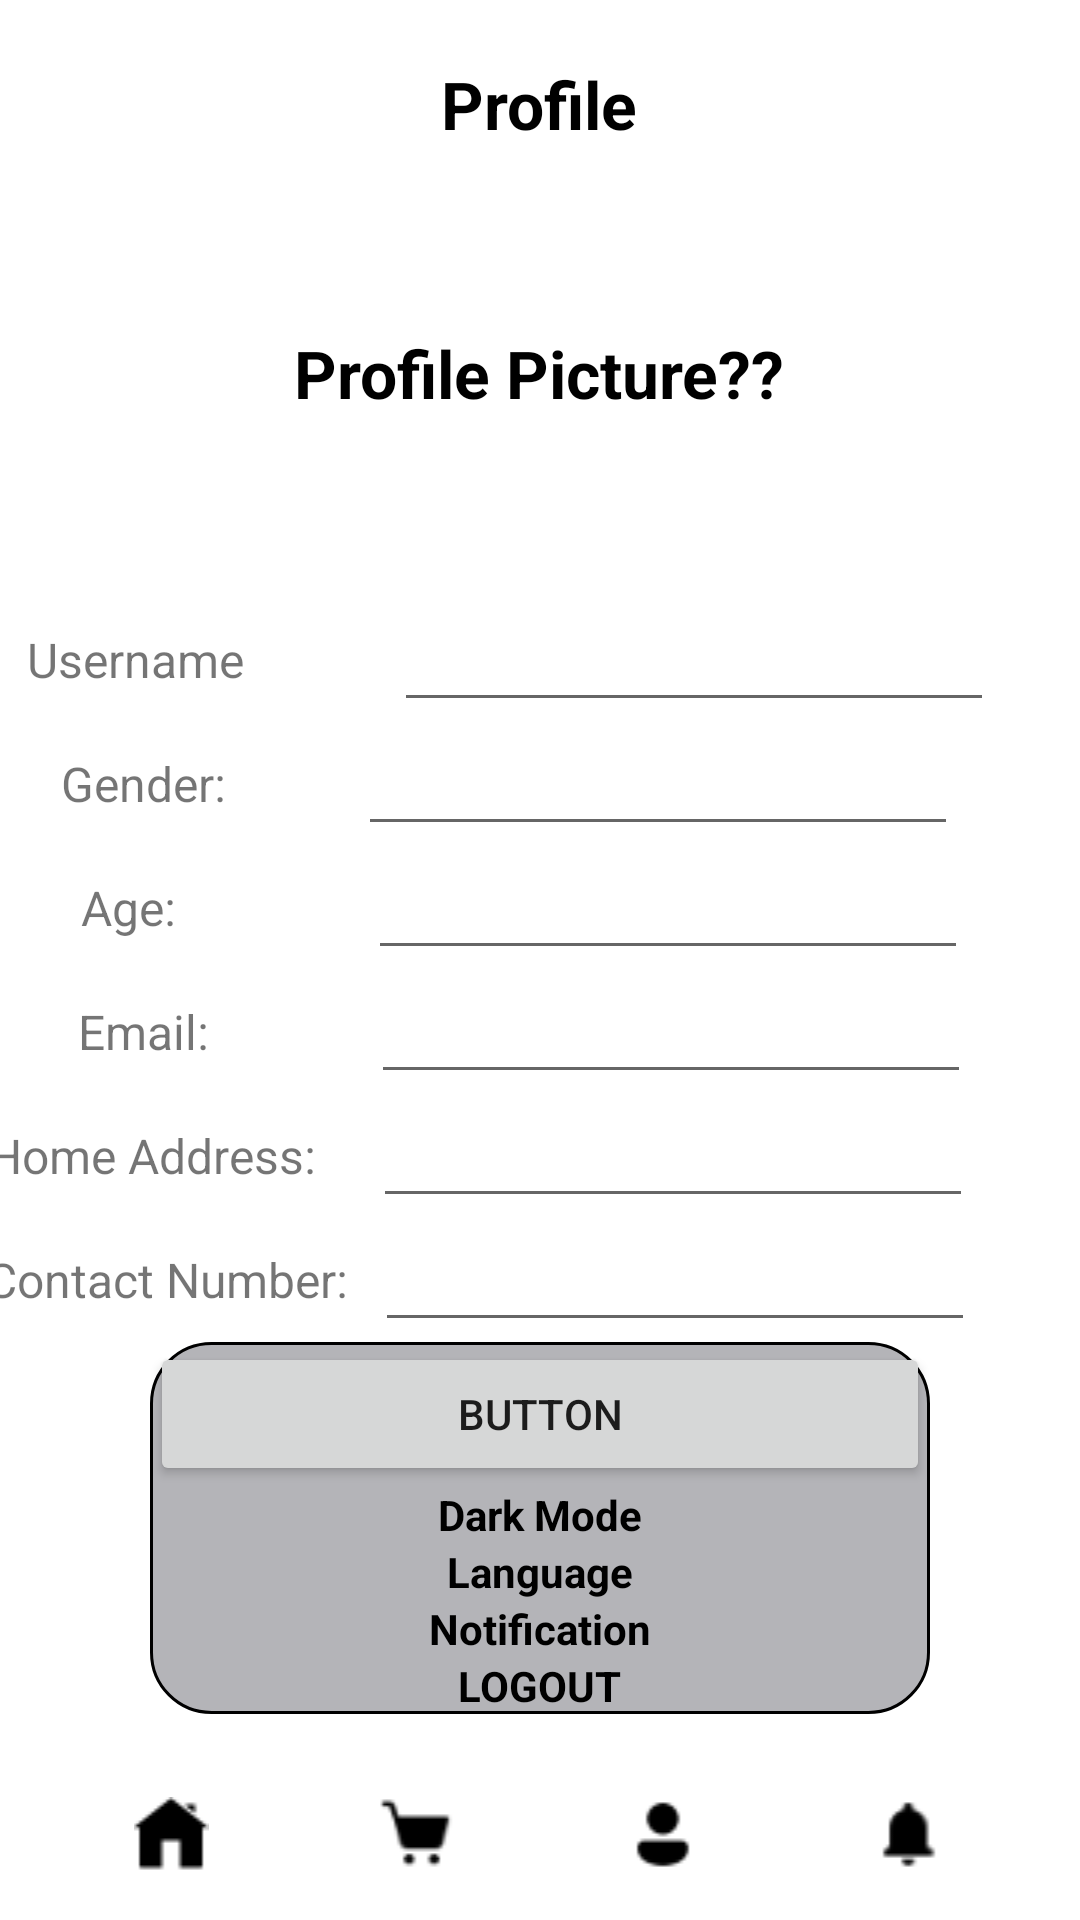

Named icons in this screenshot (1080*1920) and their centers, (x,y):
cart: (415,1832)
home: (171,1833)
user: (663,1834)
